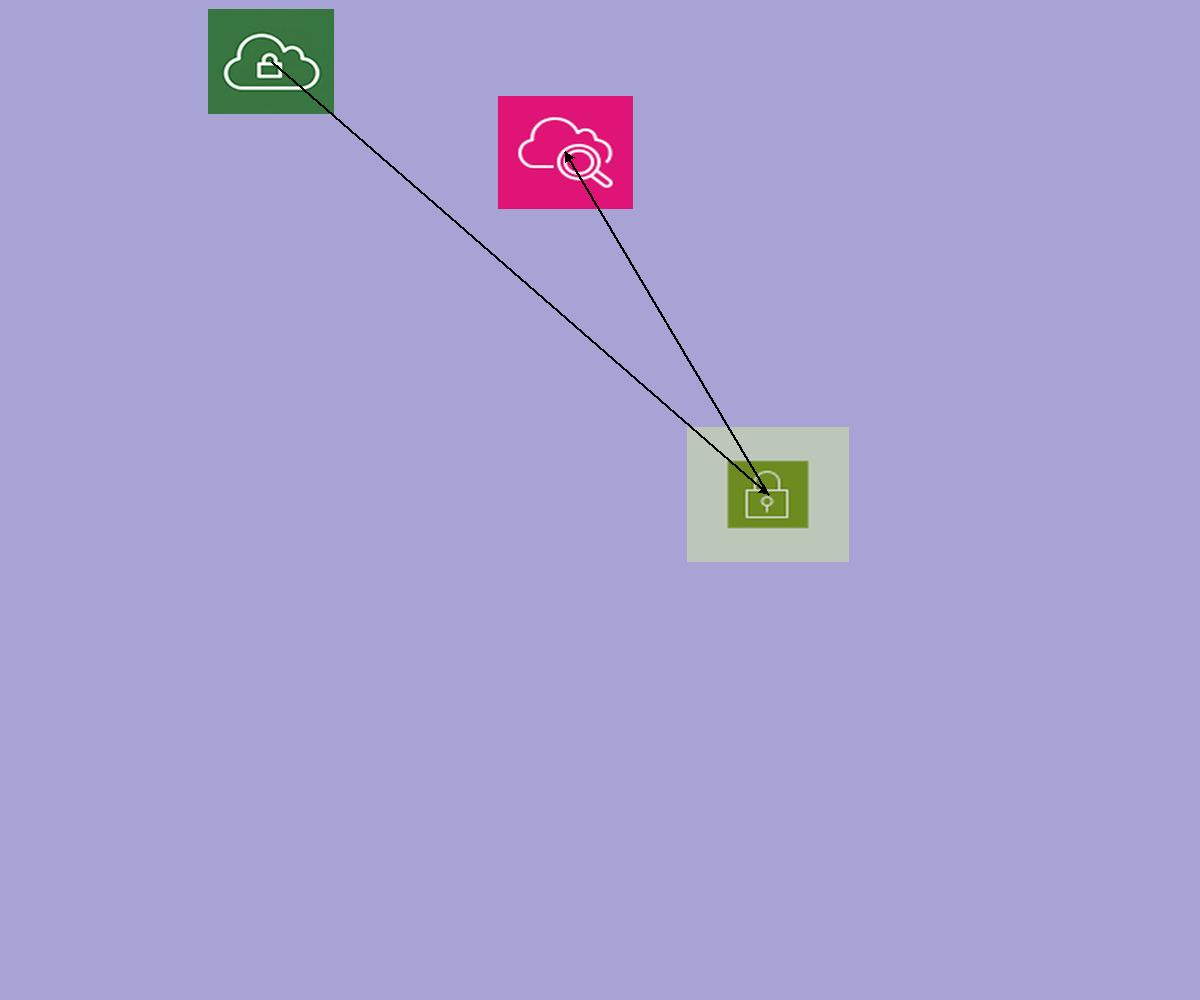AWS-CloudWatch: (498, 96, 633, 209)
AWS-Private_vpc: (208, 9, 334, 114)
AWS-Public-subnet: (687, 427, 849, 562)
